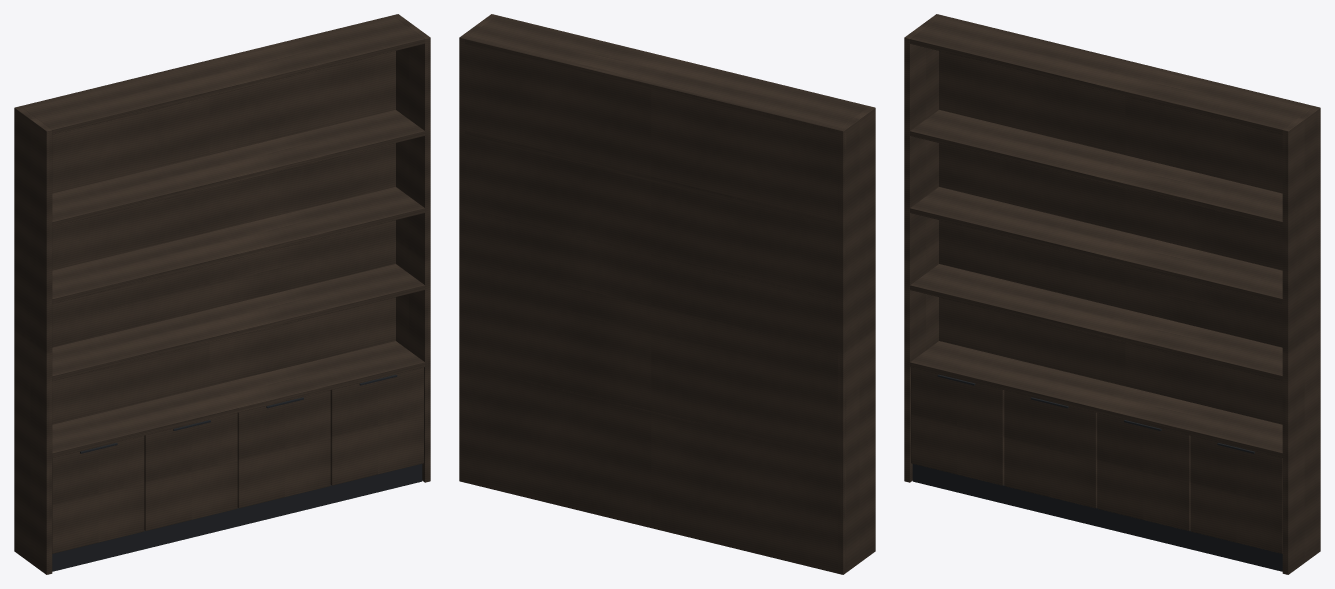
File: FUR_Shelf.fbx
3 renders of one model, left to right at view 1: azimuth 30°, elevation 25°; view 2: azimuth 150°, elevation 25°; view 3: azimuth 330°, elevation 25°, orthographic.
Visible parts, largest first — view 1: FUR_Shelf_Export; view 2: FUR_Shelf_Export; view 3: FUR_Shelf_Export.
Boxes of the visible parts, x1,y1,x2,y2 form: FUR_Shelf_Export: (14, 14, 430, 574); FUR_Shelf_Export: (459, 14, 875, 574); FUR_Shelf_Export: (904, 14, 1320, 574).
Size of the model in its own units: 2.4 by 2.65 by 0.355.
3 materials, 1 textured.
